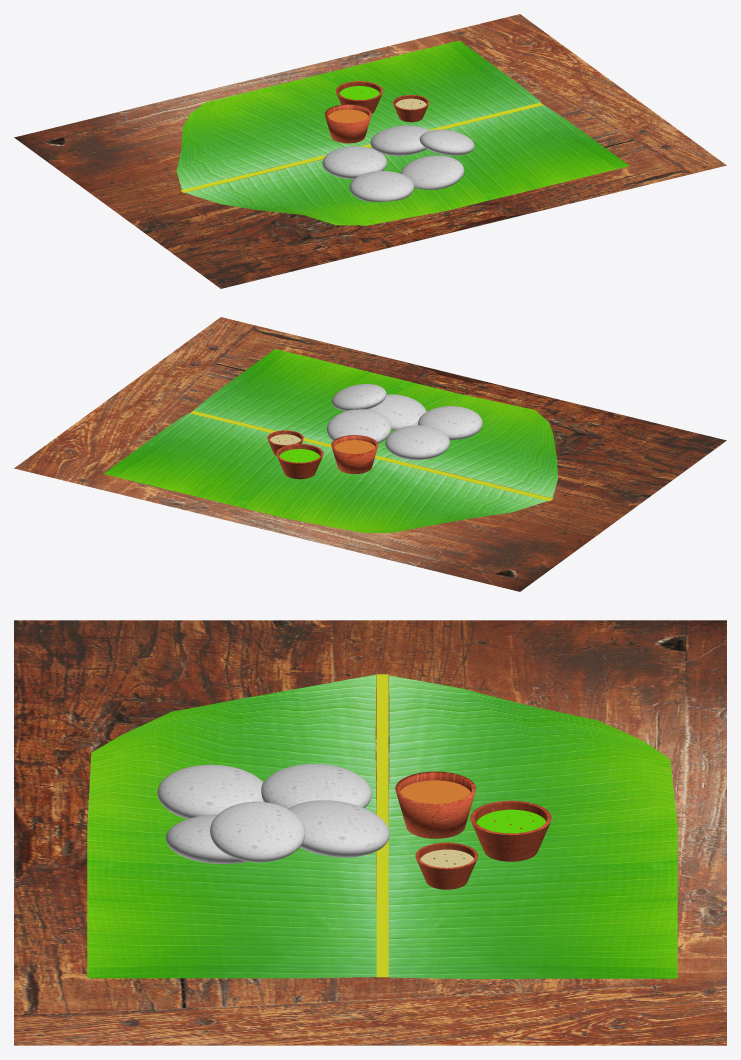
Rendered from aaaaafinalIDLI.fbx.
The picture shows the model from 3 angles, top to bottom: view 1: azimuth 30°, elevation 25°; view 2: azimuth 150°, elevation 25°; view 3: azimuth 270°, elevation 25°; orthographic projection. The views are drawn at different scales.
Visible parts, largest first — view 1: Plane, Plane.001, Sphere.006, Sphere, Circle.001, Sphere.003, Sphere.009, Sphere.002, Sphere.007, Sphere.010, Sphere.008, Sphere.004; view 2: Plane, Plane.001, Sphere, Circle.001, Sphere.003, Sphere.004, Sphere.007, Sphere.006, Sphere.002, Sphere.009, Sphere.008, Sphere.010; view 3: Plane, Plane.001, Sphere.002, Circle.001, Sphere, Sphere.007, Sphere.004, Sphere.003, Sphere.009, Sphere.010, Sphere.006, Sphere.008.
Part boxes in pixels (x1,y1,x2,y2): Plane: (14,14,726,288); Plane.001: (176,40,629,225); Sphere.006: (400,155,464,189); Sphere: (349,171,414,201); Circle.001: (325,104,371,143); Sphere.003: (322,148,386,179); Sphere.009: (370,125,429,155); Sphere.002: (419,129,474,155); Sphere.007: (336,81,383,113); Sphere.010: (393,95,429,122); Sphere.008: (322,146,386,178); Sphere.004: (371,126,422,155); Plane: (14,317,726,591); Plane.001: (103,349,557,532); Sphere: (418,406,482,439); Circle.001: (331,435,378,473); Sphere.003: (386,425,449,459); Sphere.004: (327,409,391,443); Sphere.007: (276,443,323,479); Sphere.006: (367,394,426,429); Sphere.002: (332,384,386,411); Sphere.009: (327,409,390,438); Sphere.008: (385,426,449,459); Sphere.010: (267,430,303,455); Plane: (14,620,726,1045); Plane.001: (87,674,677,978); Sphere.002: (210,801,305,862); Circle.001: (395,771,476,838); Sphere: (157,764,263,818); Sphere.007: (470,800,551,861); Sphere.004: (288,800,389,857); Sphere.003: (261,764,371,808); Sphere.009: (288,800,389,857); Sphere.010: (415,842,478,889); Sphere.006: (166,814,247,863); Sphere.008: (261,764,371,806).
Size of the model in its own units: 477 by 33.06 by 337.
15 materials, 8 textured.
